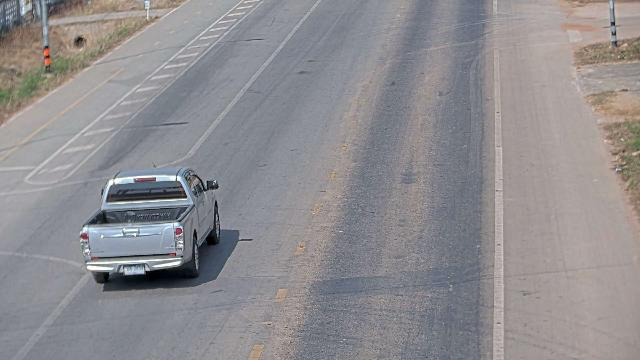pickup-truck: (78, 165, 221, 284)
